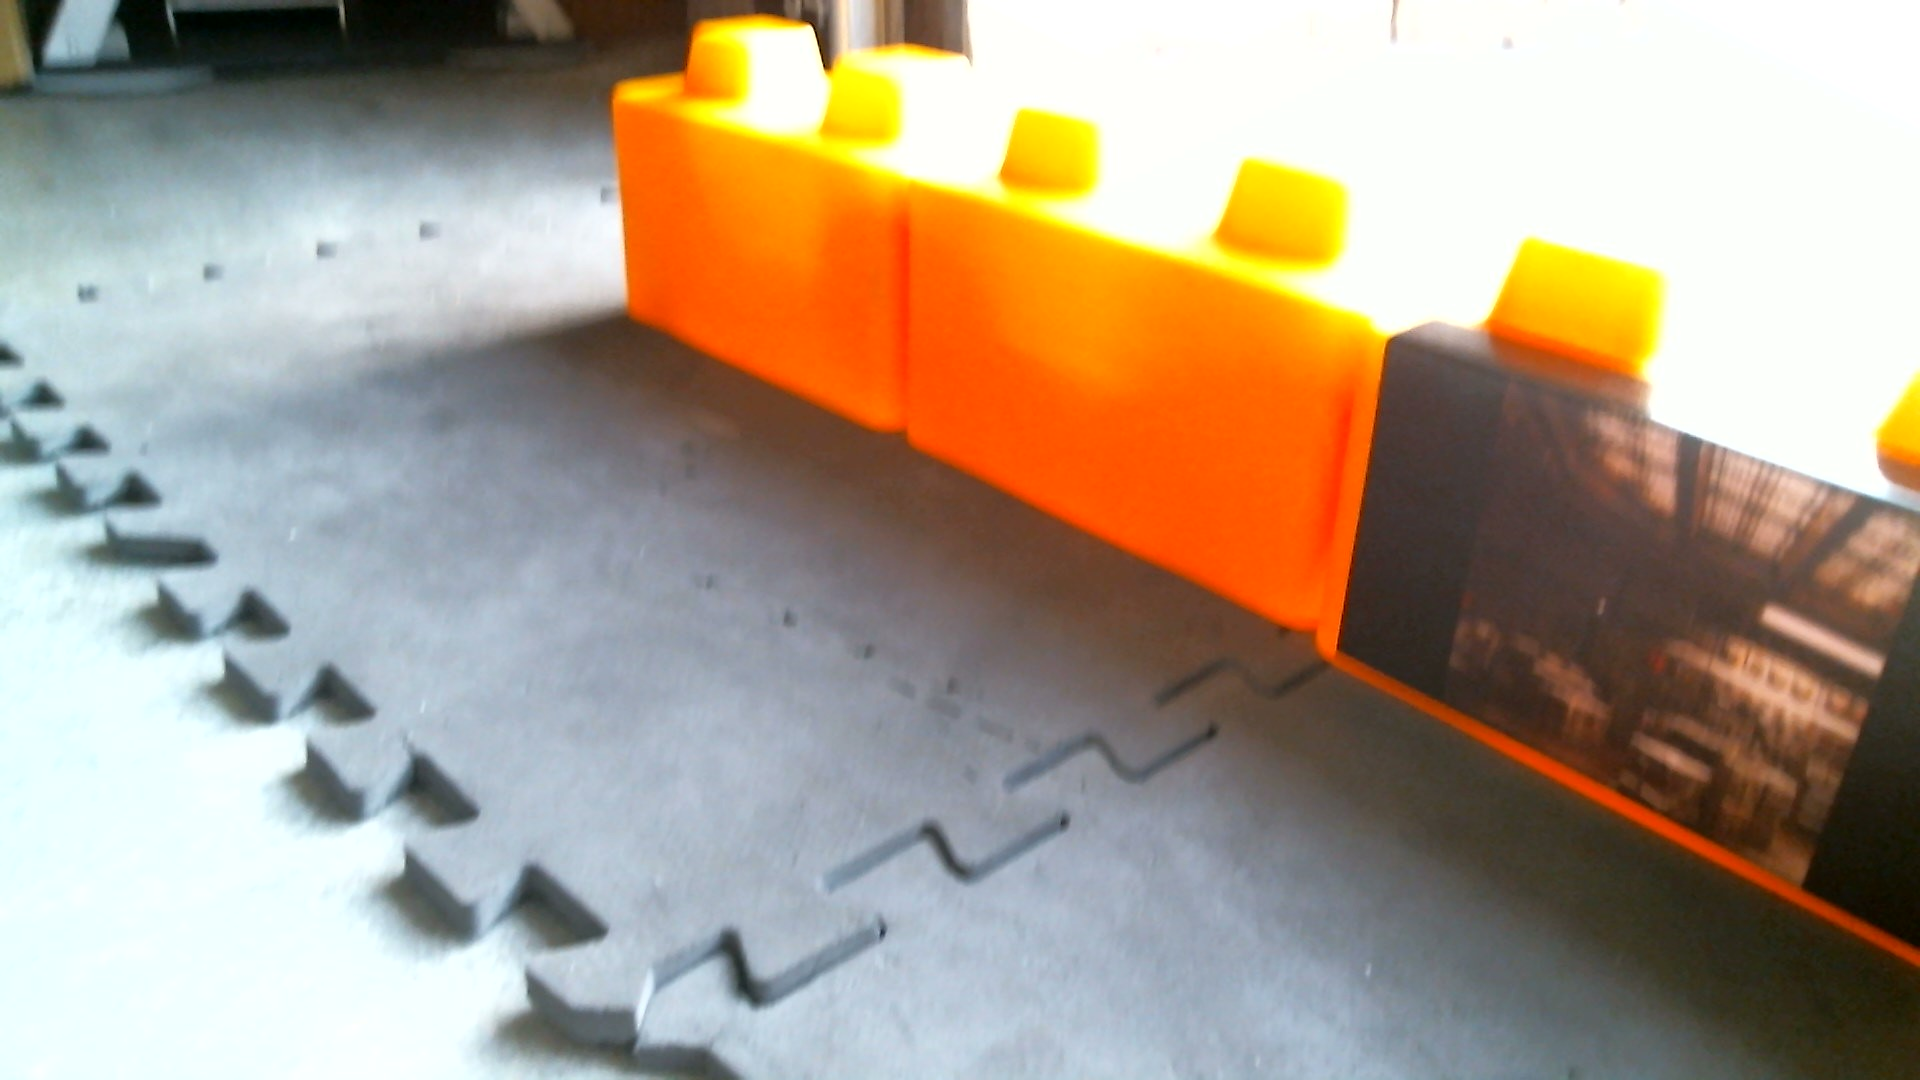right: (582, 1, 1909, 963)
